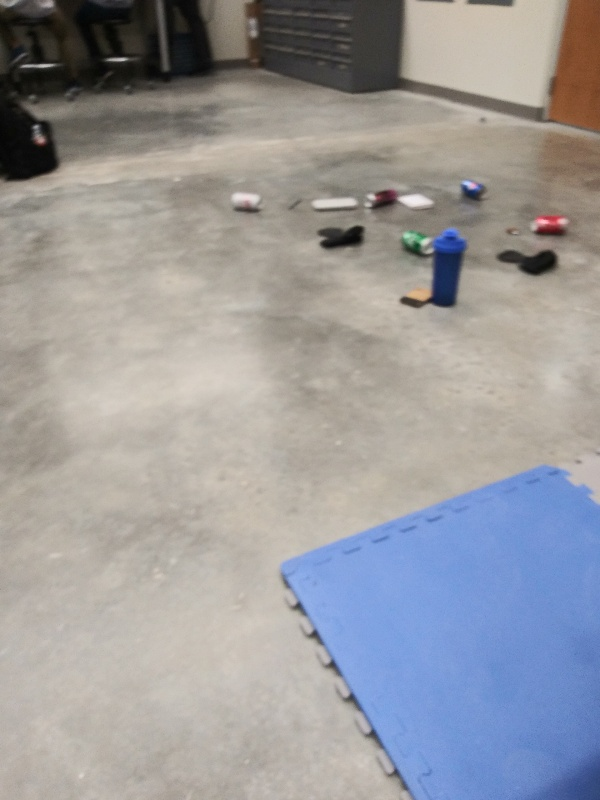can: (396, 228, 439, 259), (526, 213, 573, 236), (225, 189, 268, 213), (361, 187, 401, 210), (458, 176, 489, 200)
